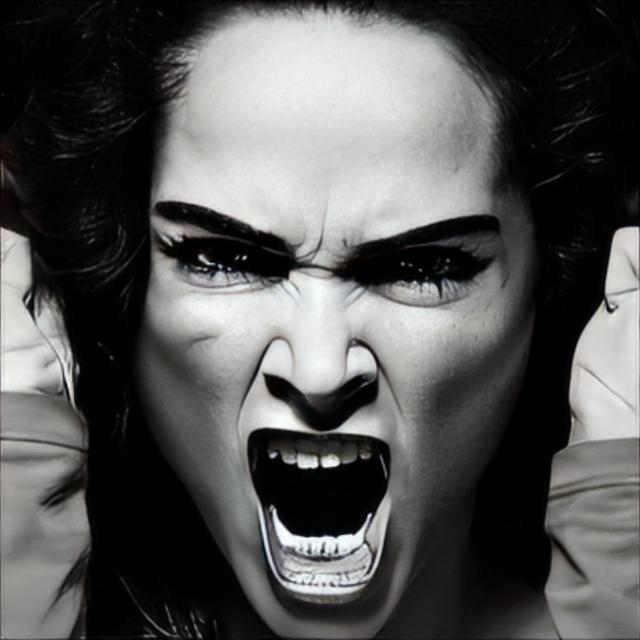anger: (134, 6, 543, 638)
